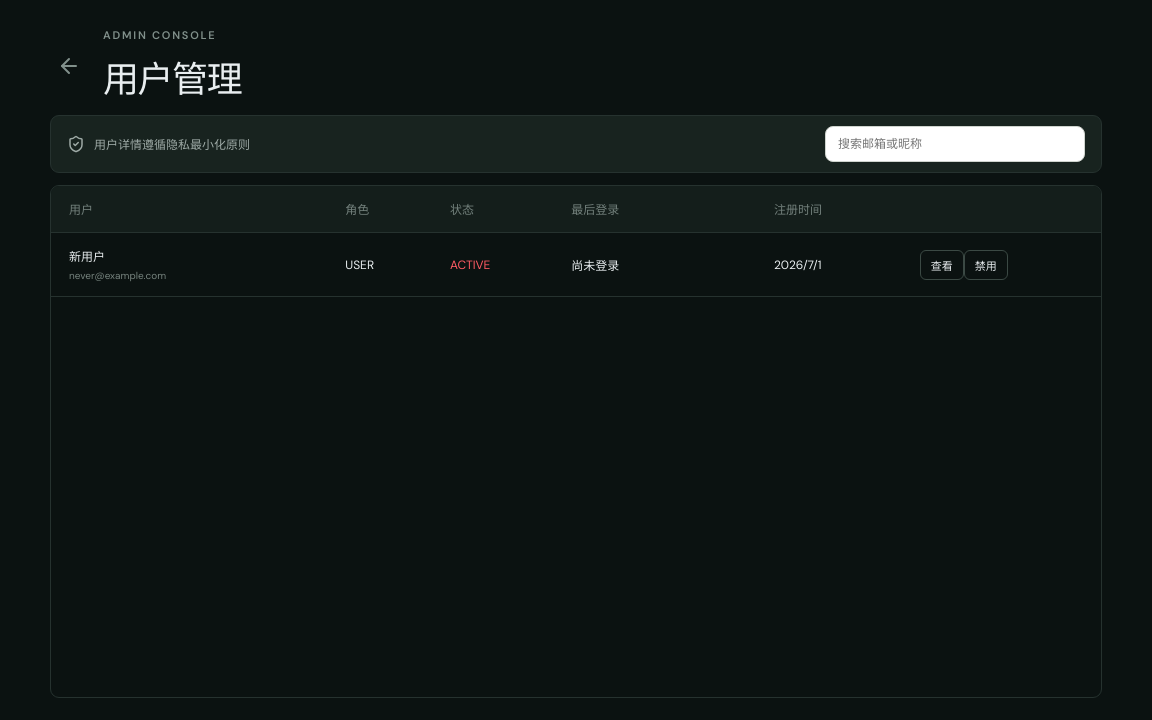
Scenario: AdminPanel › 权限错误在详情页明确展示
Click the button with aria-label "查看 新用户": (942, 264) [920,250,964,280]
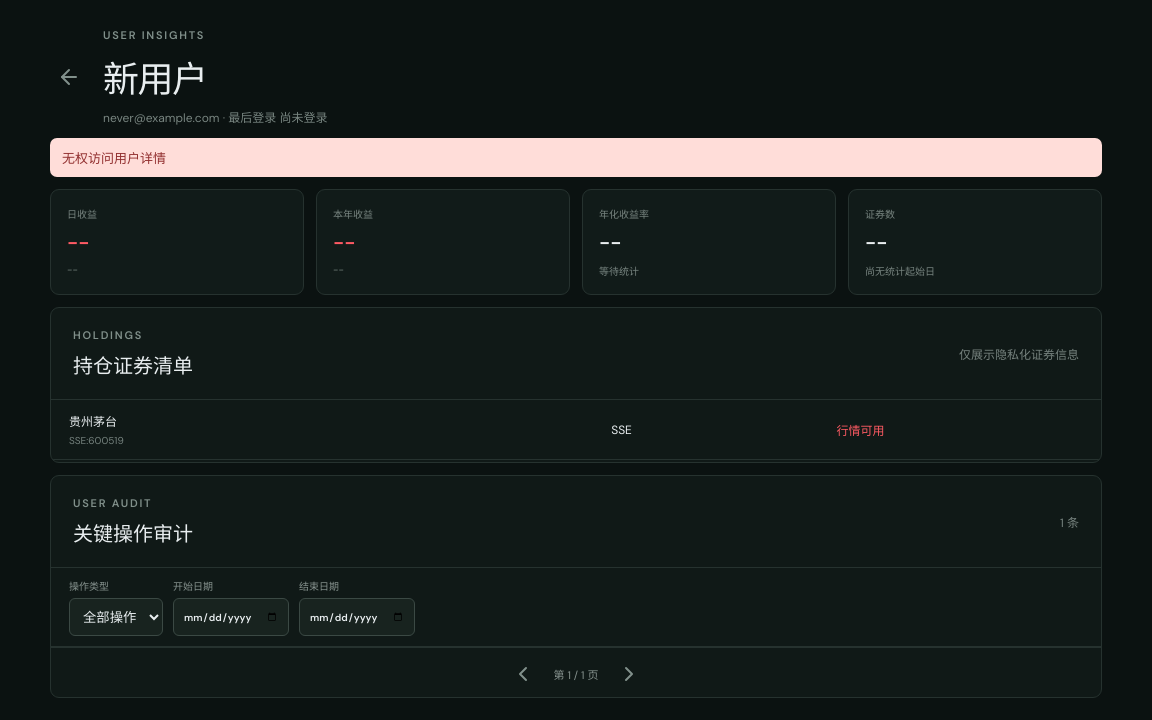
Check: the text "无权访问用户详情" is shown, box [50,138,1102,177]
